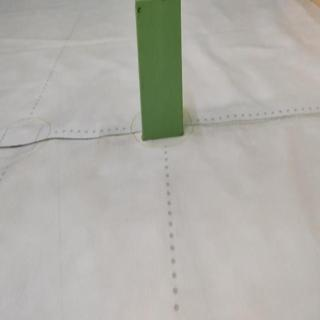greenbox: (136, 2, 185, 141)
